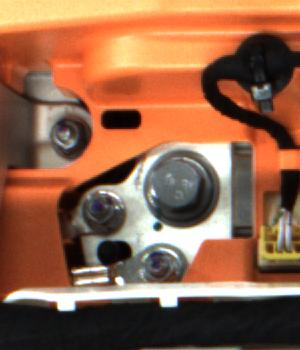nut_b: (140, 150, 219, 223)
screw_s: (81, 189, 126, 233), (46, 112, 81, 158), (137, 247, 175, 282)
